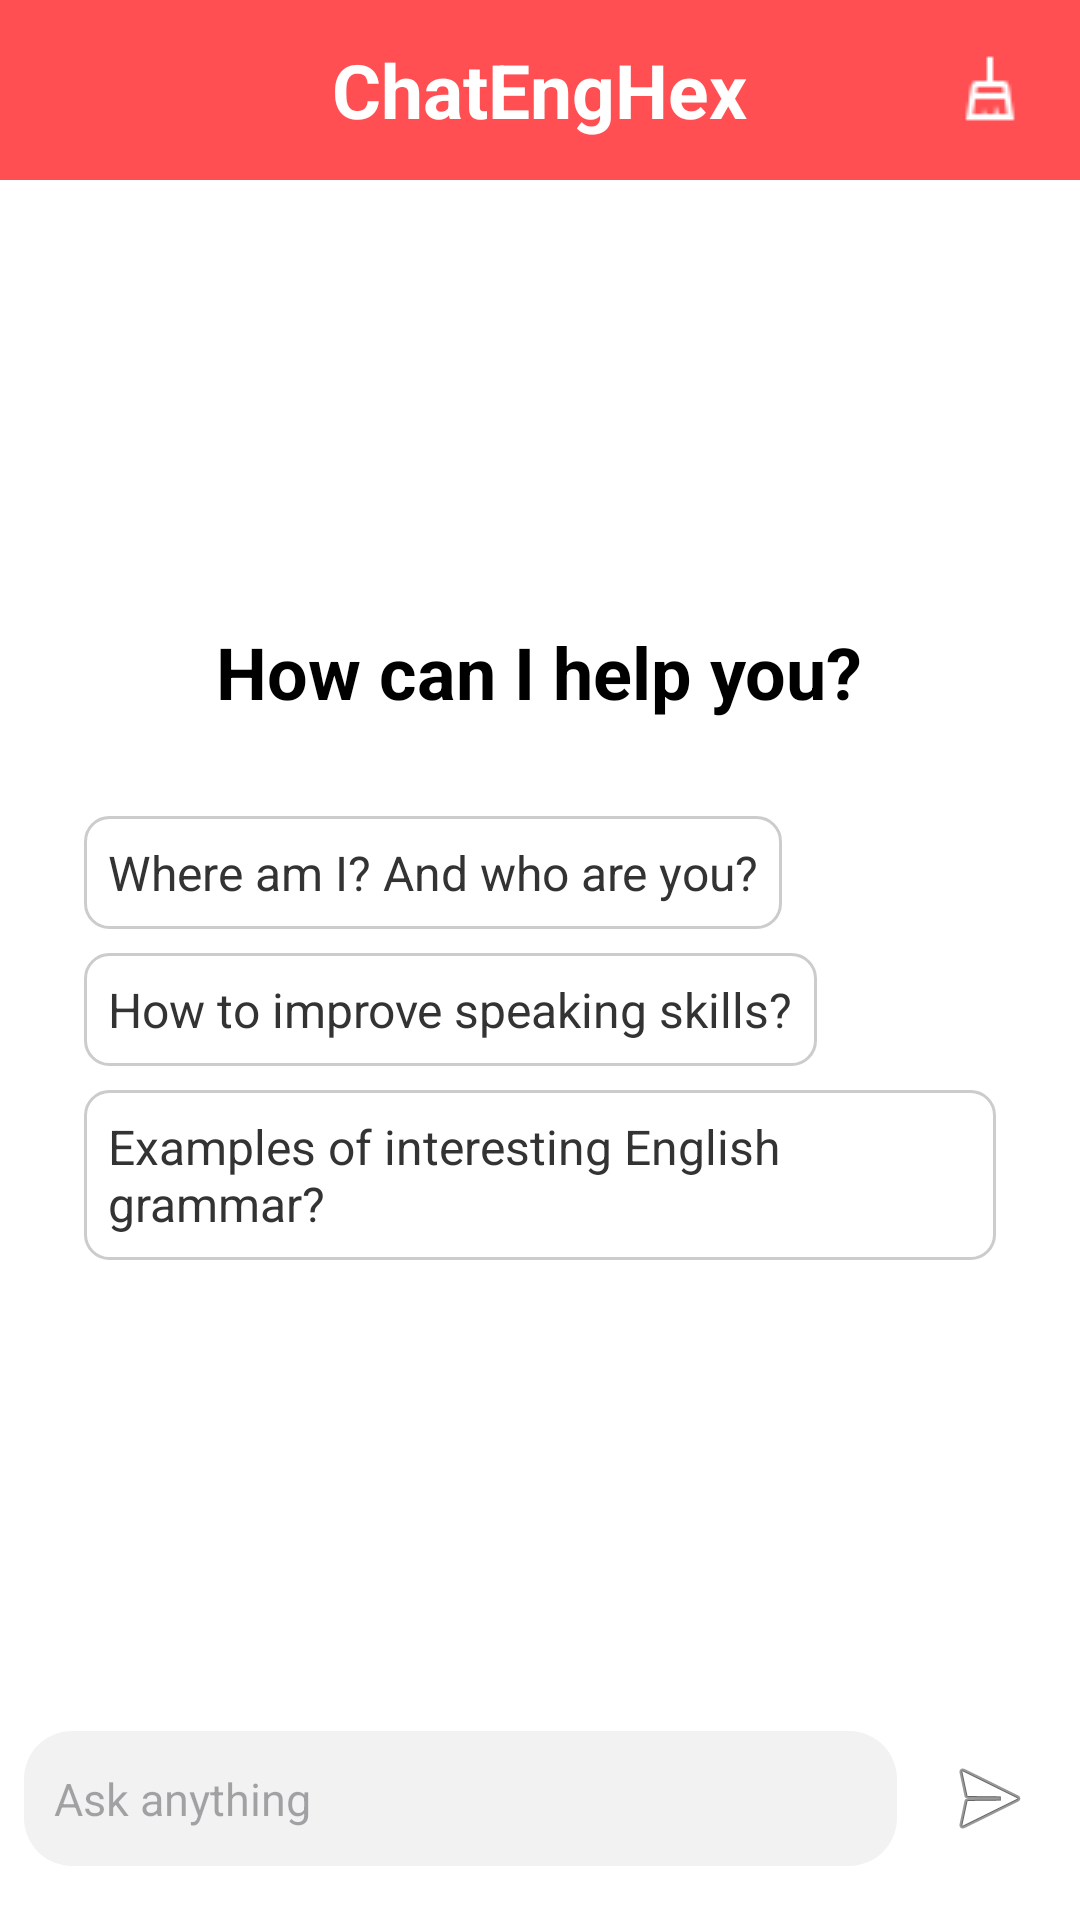

Where icons sit on this 1080x1920 app screen, as (x1, y1, x2, y2):
Send: (959, 1768, 1021, 1829)
Xóa lịch sử: (965, 56, 1015, 121)
